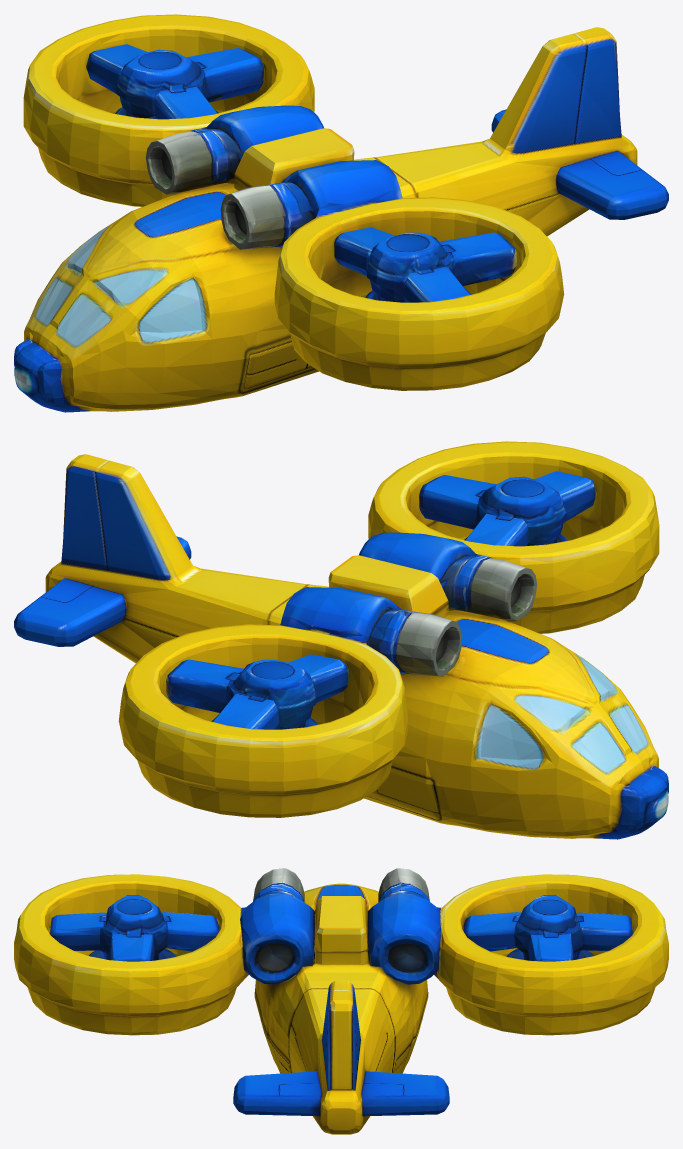
File: Meshy_AI_Blue_and_Yellow_Toy_D_0705085958_texture.glb
3 renders of one model, top to bottom at view 1: azimuth 30°, elevation 25°; view 2: azimuth 150°, elevation 25°; view 3: azimuth 270°, elevation 25°, orthographic. The views are drawn at different scales.
Size of the model in its own units: 1.71 by 0.6771 by 1.91.
1 material, 1 textured.
